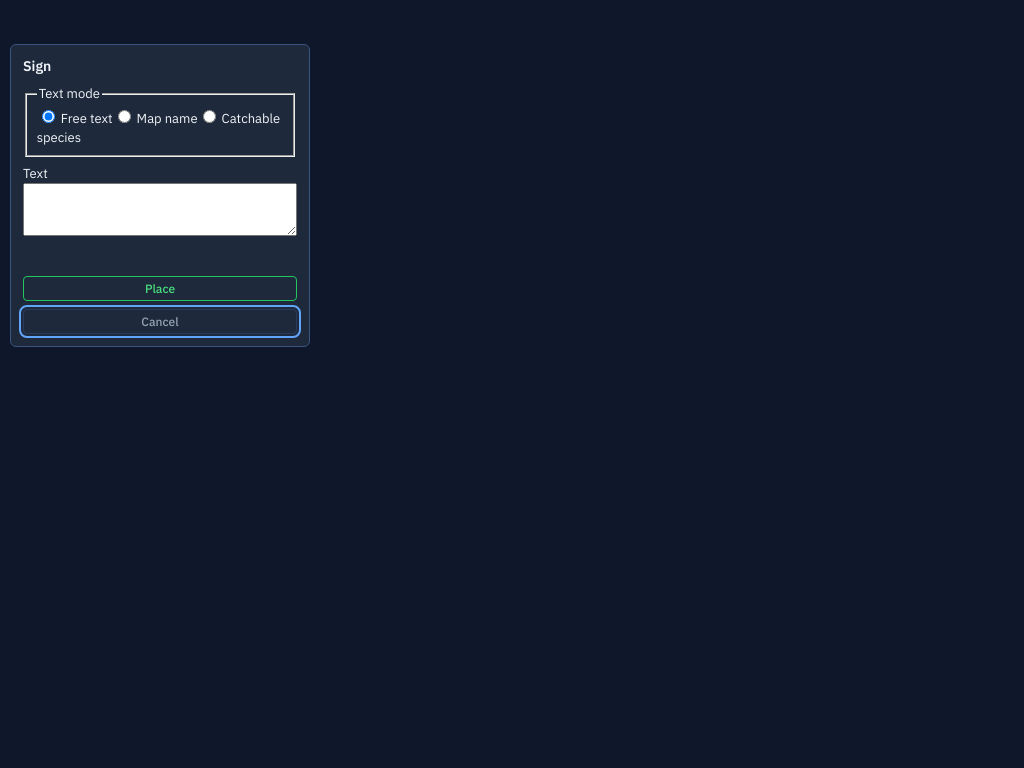
Test: SignEditor › places a free-text sign and keeps the editor open on a refusal
The image size is (1024, 768).
Check: the button "Place" is shown, box [23,276,297,301]
Step 1. Type "HELLO" into the text box labelled "Text" → [160, 210], box [23,183,297,236]
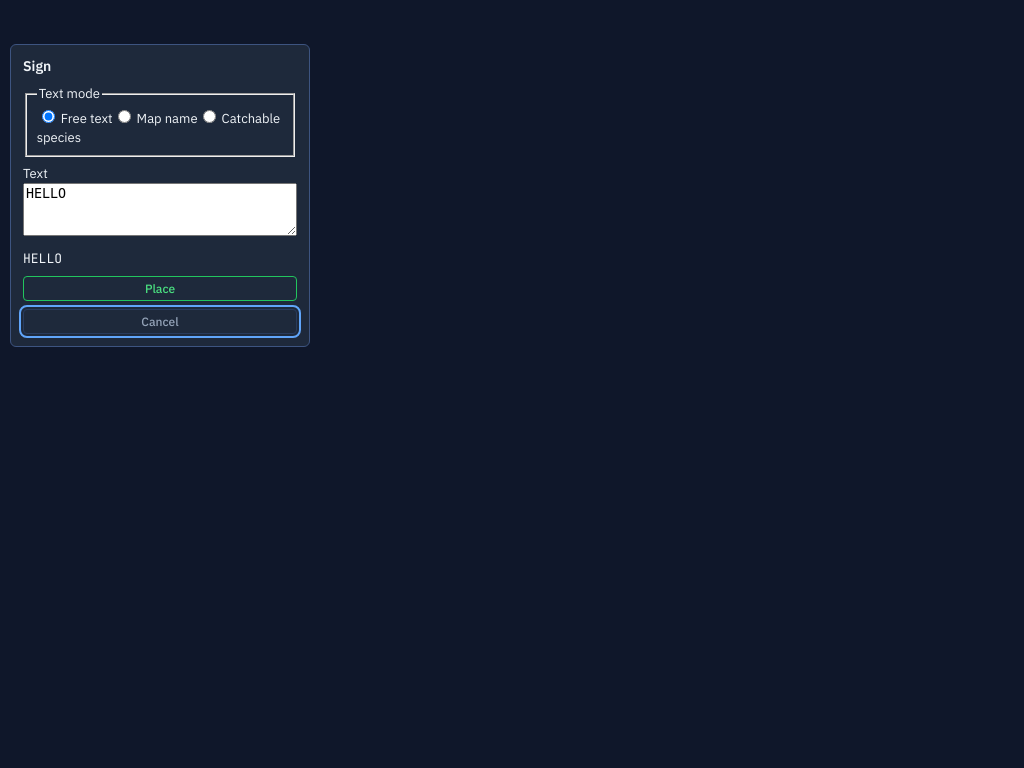
Step 2. Click the button "Place" → [160, 288], box [23,276,297,301]
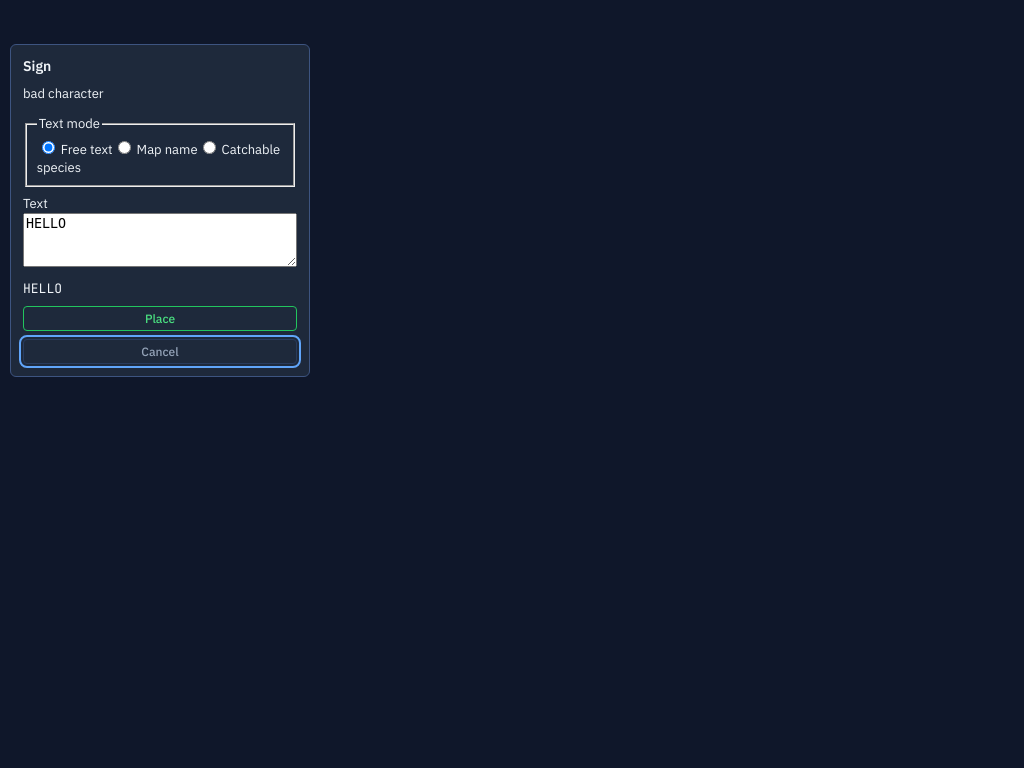
Check: the dialog is shown, box [10,44,310,377]
Check: the text "bad character" is shown, box [23,85,104,102]
